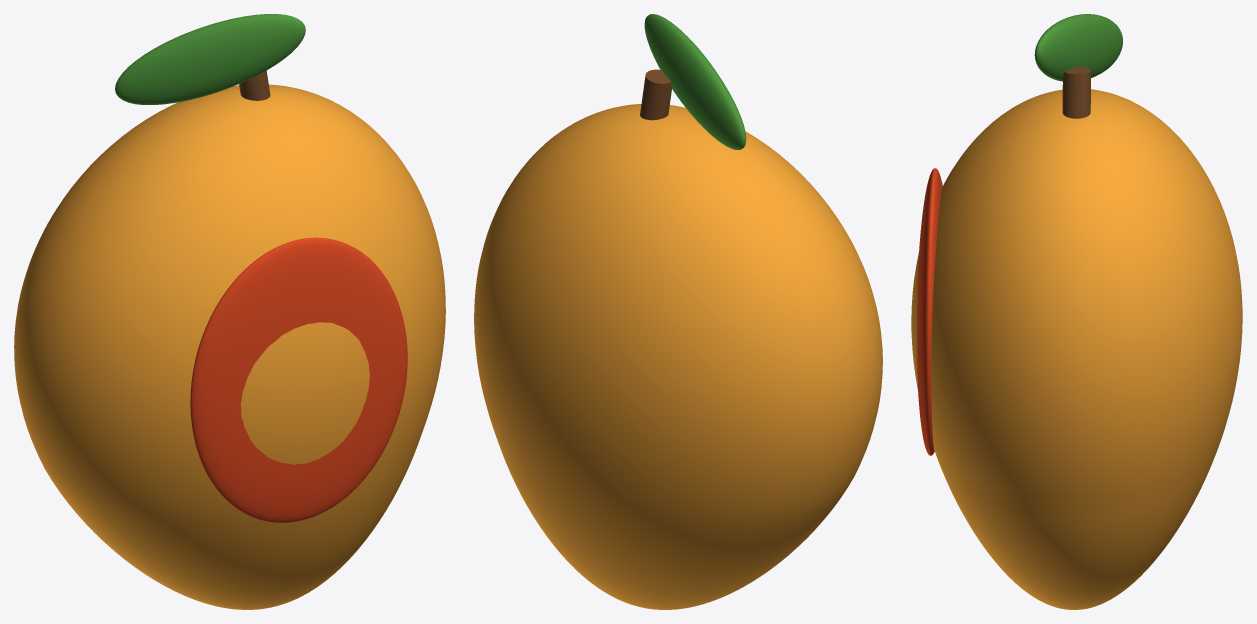
The model's file is mangoLoro.glb.
3 views of the same model, side by side, from view 1: azimuth 30°, elevation 25°; view 2: azimuth 150°, elevation 25°; view 3: azimuth 270°, elevation 25° (orthographic). The views are drawn at different scales.
Visible parts, largest first — view 1: Mango_HighPoly, Mango_Rubor, Hoja, Tallo; view 2: Mango_HighPoly, Hoja, Tallo; view 3: Mango_HighPoly, Hoja, Mango_Rubor, Tallo.
Boxes of the visible parts, x1,y1,x2,y2 form: Mango_HighPoly: (14,84,445,609); Mango_Rubor: (190,237,407,522); Hoja: (115,14,305,104); Tallo: (239,70,270,100); Mango_HighPoly: (474,104,882,609); Hoja: (644,14,746,149); Tallo: (640,69,671,120); Mango_HighPoly: (911,89,1242,609); Hoja: (1034,14,1122,81); Mango_Rubor: (917,168,942,455); Tallo: (1062,66,1091,118).
Size of the model in its own units: 2.77 by 4.04 by 2.11.
